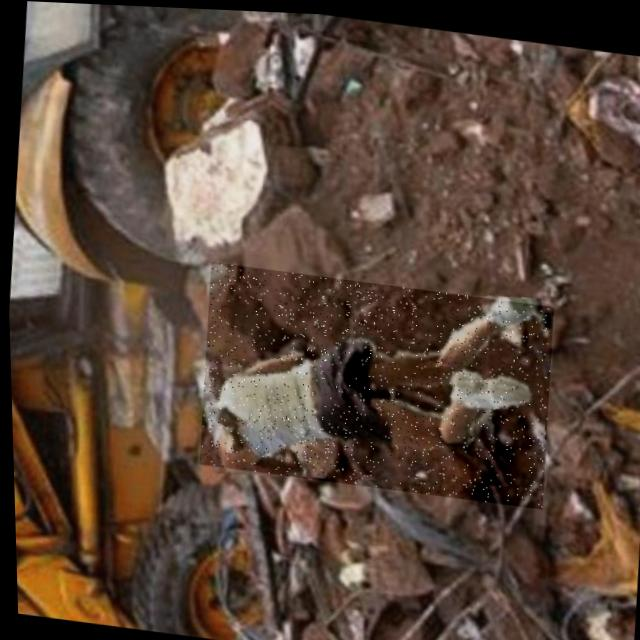Person in Rubble: (192, 258, 556, 504)
